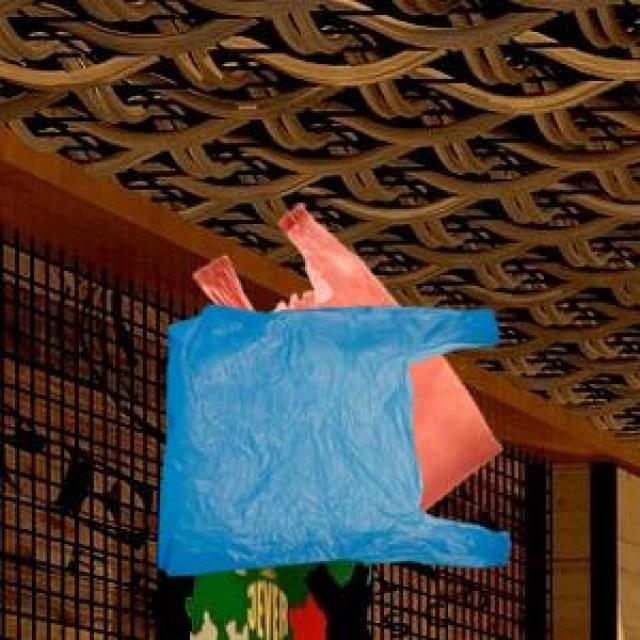plastic: (134, 186, 571, 640)
